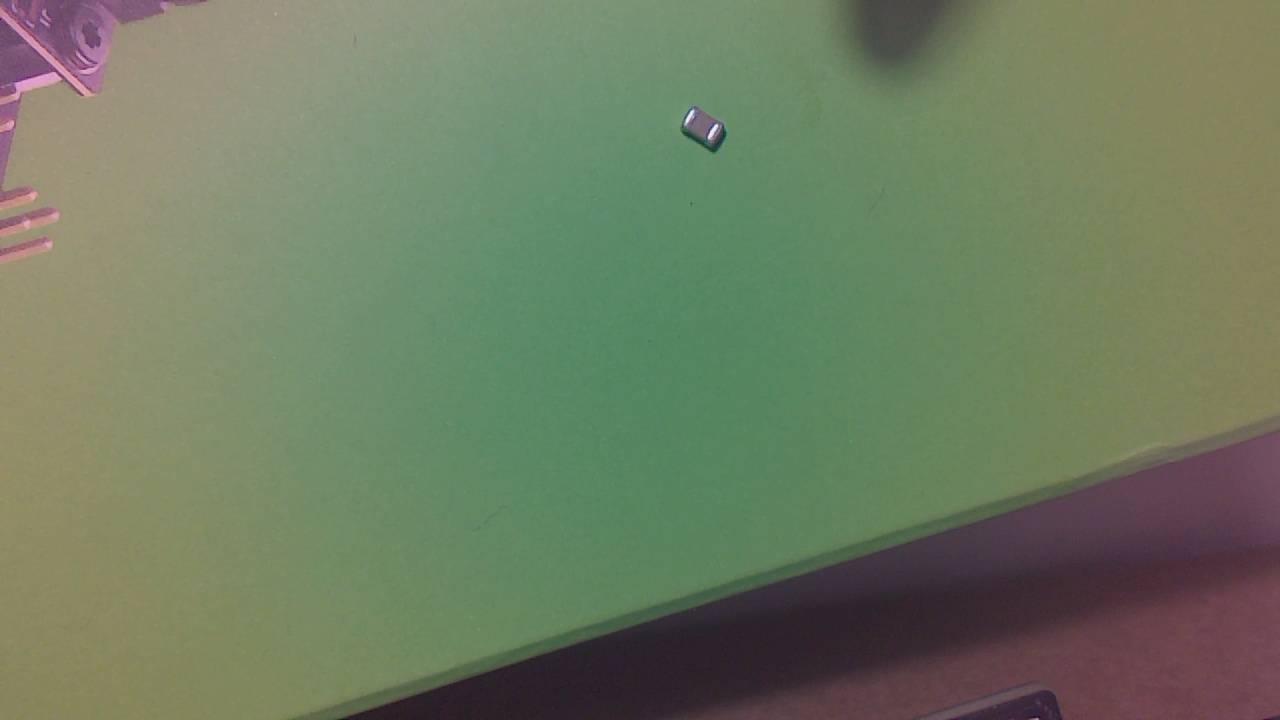Condensator: (684, 110, 732, 159)
